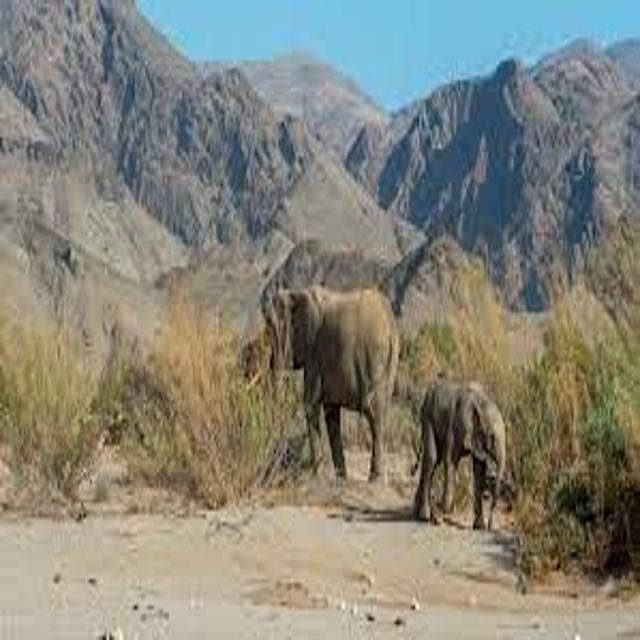elephant: (203, 254, 427, 508), (383, 355, 533, 555)
